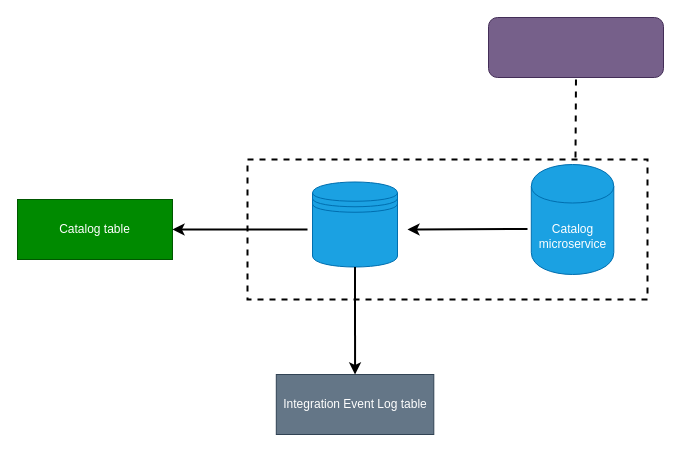
The diagram is 681 pixels wide and 452 high, and some of its shapes have lost their labels. The shapes that lost their labels are listed below. From the top down, each one's centre as x and y in pixels, then its label:
At point 576,47: "Update car price per day".
At point 355,224: "Azure SQL".
